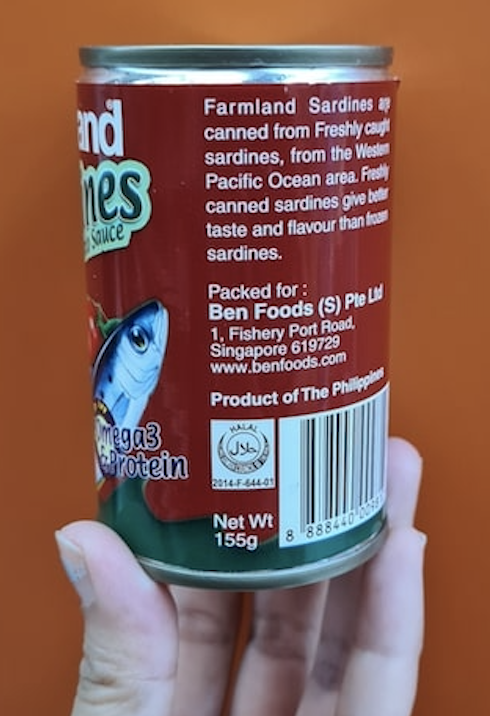Halal: (215, 426, 272, 476)
